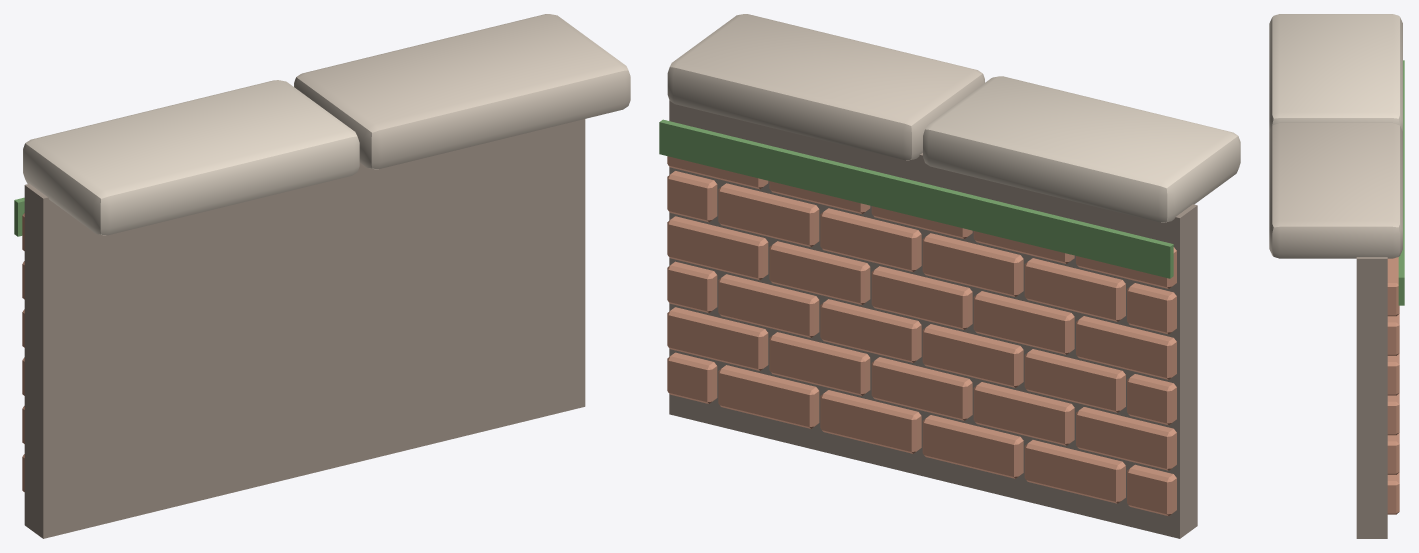
The model's file is water_edge.glb.
The picture shows the model from 3 angles, left to right: view 1: azimuth 30°, elevation 25°; view 2: azimuth 150°, elevation 25°; view 3: azimuth 270°, elevation 25°; orthographic projection. The views are drawn at different scales.
Parts seen in each view (by area): view 1: water_edge; view 2: water_edge; view 3: water_edge.
Boxes of the visible parts, bbox=[...] form: water_edge: bbox=[14, 14, 630, 538]; water_edge: bbox=[659, 14, 1240, 538]; water_edge: bbox=[1269, 14, 1404, 538].
Bounding box in the file's own units: 1 × 0.67 × 0.263.
